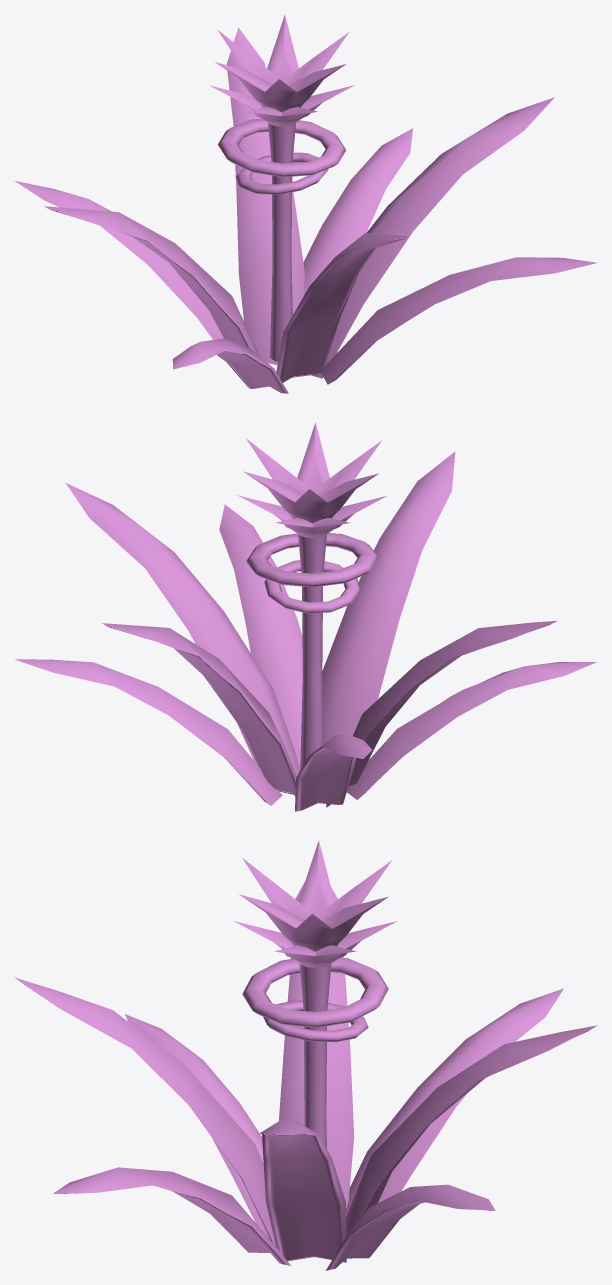
The model's file is planetPlant_stage2.fbx.
3 renders of one model, top to bottom at view 1: azimuth 30°, elevation 25°; view 2: azimuth 150°, elevation 25°; view 3: azimuth 270°, elevation 25°, orthographic. The views are drawn at different scales.
Visible parts, largest first — view 1: papple_leaf02, papple_leaf06, papple_leaf01, papple_leaf08, papple_leaf04, papple_stemLeaf02, papple_leaf05, papple_stem, papple_stemRing01, papple_leaf07, papple_leaf03, pasted__papple_stemLeaf01 (+1 smaller); view 2: papple_leaf01, papple_leaf06, papple_leaf08, papple_leaf02, papple_leaf04, papple_leaf03, papple_stemLeaf02, papple_leaf05, papple_stem, papple_leaf07, papple_stemRing01, papple_stemRing02 (+1 smaller); view 3: papple_leaf06, papple_leaf01, papple_leaf05, papple_leaf02, papple_leaf07, papple_stemLeaf02, papple_leaf08, papple_stemRing01, papple_leaf04, papple_stem, papple_leaf03, pasted__papple_stemLeaf01 (+1 smaller).
Boxes of the visible parts, bbox=[...] form: papple_leaf02: bbox=[226, 27, 304, 365]; papple_leaf06: bbox=[311, 97, 554, 378]; papple_leaf01: bbox=[276, 233, 407, 382]; papple_leaf08: bbox=[321, 257, 597, 384]; papple_leaf04: bbox=[303, 128, 412, 294]; papple_stemLeaf02: bbox=[215, 15, 348, 112]; papple_leaf05: bbox=[43, 206, 259, 355]; papple_stem: bbox=[268, 123, 295, 361]; papple_stemRing01: bbox=[217, 118, 345, 177]; papple_leaf07: bbox=[15, 181, 223, 339]; papple_leaf03: bbox=[172, 338, 288, 393]; pasted__papple_stemLeaf01: bbox=[209, 85, 354, 126]; papple_leaf01: bbox=[322, 451, 455, 743]; papple_leaf06: bbox=[65, 482, 300, 775]; papple_leaf08: bbox=[219, 504, 302, 766]; papple_leaf02: bbox=[102, 623, 296, 796]; papple_leaf04: bbox=[15, 659, 282, 805]; papple_leaf03: bbox=[347, 662, 596, 799]; papple_stemLeaf02: bbox=[243, 422, 381, 523]; papple_leaf05: bbox=[326, 620, 557, 807]; papple_stem: bbox=[298, 534, 326, 769]; papple_leaf07: bbox=[295, 734, 371, 811]; papple_stemRing01: bbox=[246, 533, 378, 587]; papple_stemRing02: bbox=[264, 560, 360, 613]; papple_leaf06: bbox=[260, 1116, 346, 1262]; papple_leaf01: bbox=[14, 977, 275, 1246]; papple_leaf05: bbox=[279, 881, 354, 1208]; papple_leaf02: bbox=[346, 1025, 597, 1235]; papple_leaf07: bbox=[346, 988, 563, 1216]; papple_stemLeaf02: bbox=[239, 840, 391, 951]; papple_leaf08: bbox=[53, 1167, 290, 1265]; papple_stemRing01: bbox=[242, 957, 388, 1027]; papple_leaf04: bbox=[326, 1184, 495, 1270]; papple_stem: bbox=[299, 964, 331, 1148]; papple_leaf03: bbox=[125, 1014, 267, 1236]; pasted__papple_stemLeaf01: bbox=[234, 921, 397, 967].
Size of the model in its own units: 97.59 by 61.91 by 87.63.
